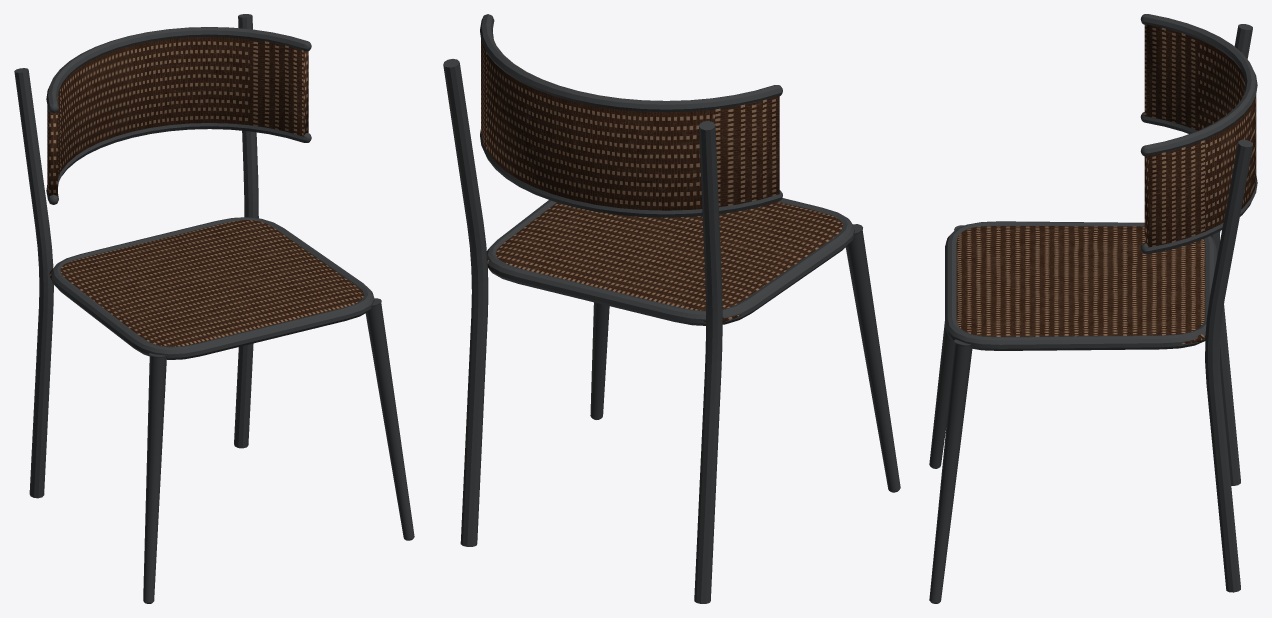
File: silla_ratan_moca.glb
3 renders of one model, left to right at view 1: azimuth 30°, elevation 25°; view 2: azimuth 150°, elevation 25°; view 3: azimuth 270°, elevation 25°, orthographic. The views are drawn at different scales.
Visible parts, largest first — view 1: silla_ratan_moca; view 2: silla_ratan_moca; view 3: silla_ratan_moca.
Part boxes in pixels (box(x1,y1,x2,y2)): silla_ratan_moca: box(14, 14, 414, 603); silla_ratan_moca: box(443, 14, 900, 603); silla_ratan_moca: box(929, 14, 1257, 603).
Bounding box in the file's own units: 0.555 × 0.8411 × 0.5478.
Materials: 2 (1 with a texture image).
